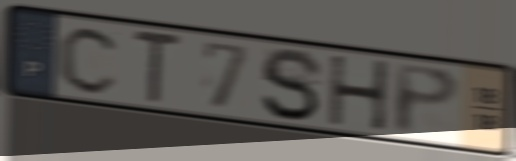7: (199, 38, 252, 112)
C: (57, 23, 124, 97)
H: (327, 53, 392, 133)
P: (391, 61, 463, 138)
S: (258, 45, 326, 125)
T: (130, 26, 184, 105)
